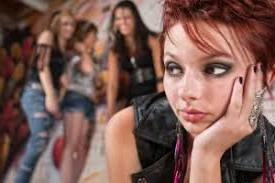Drunk: (164, 26, 238, 129)
